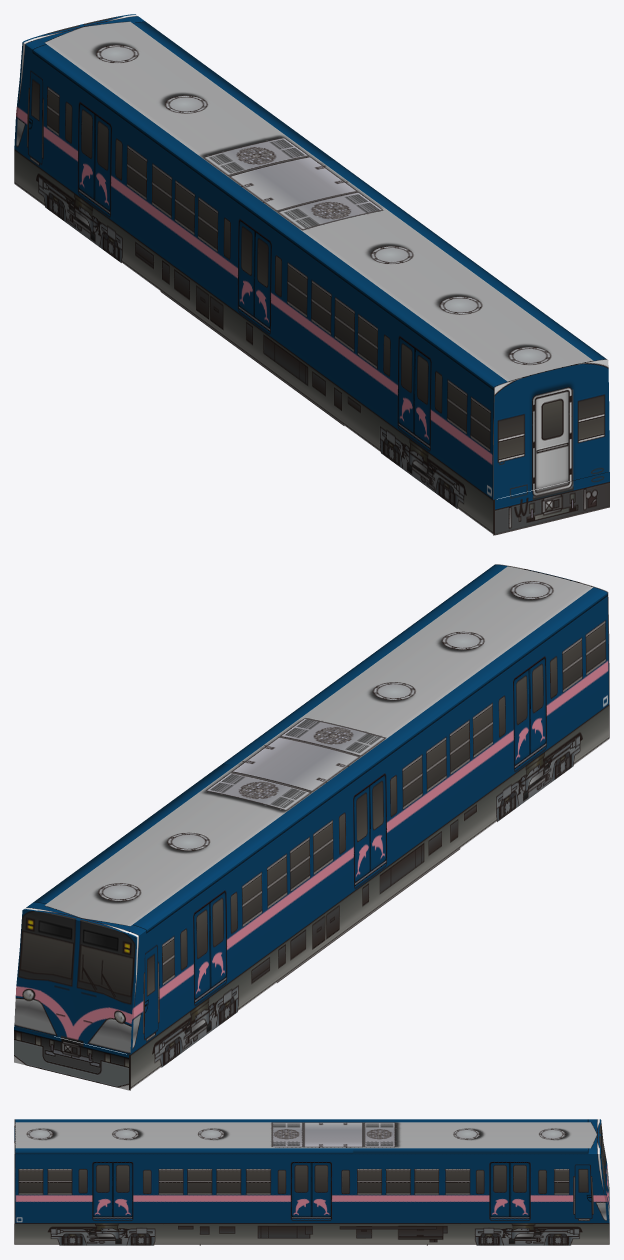
Rendered from car2.glb.
3 views of the same model, one above another, from view 1: azimuth 30°, elevation 25°; view 2: azimuth 150°, elevation 25°; view 3: azimuth 270°, elevation 25° (orthographic). The views are drawn at different scales.
Visible parts, largest first — view 1: car2.glb; view 2: car2.glb; view 3: car2.glb.
Part boxes in pixels (<box>): car2.glb: <box>14,14,609,535</box>; car2.glb: <box>14,564,609,1090</box>; car2.glb: <box>14,1119,609,1245</box>.
Size of the model in its own units: 2.8 by 3.47 by 20.03.
10 materials, 9 textured.
